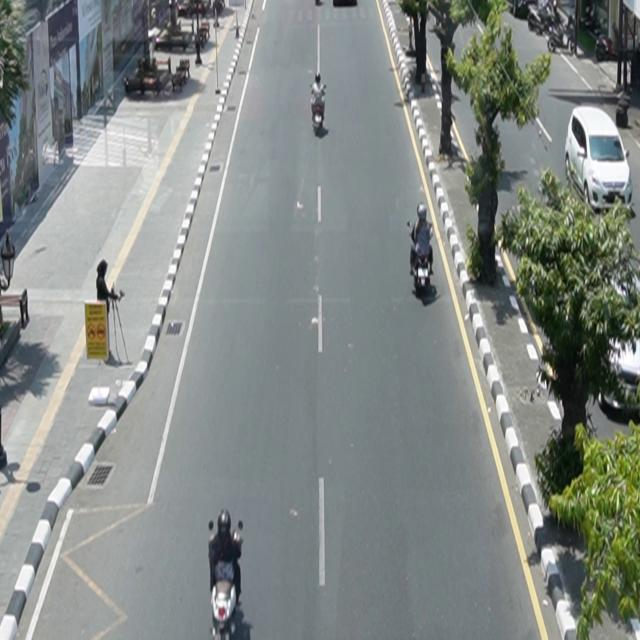car: (565, 106, 634, 215), (598, 260, 640, 417)
